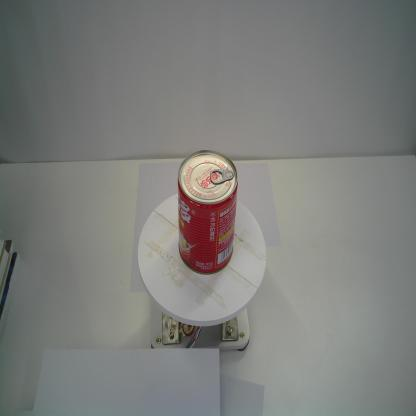Canned Food: (176, 147, 239, 278)
